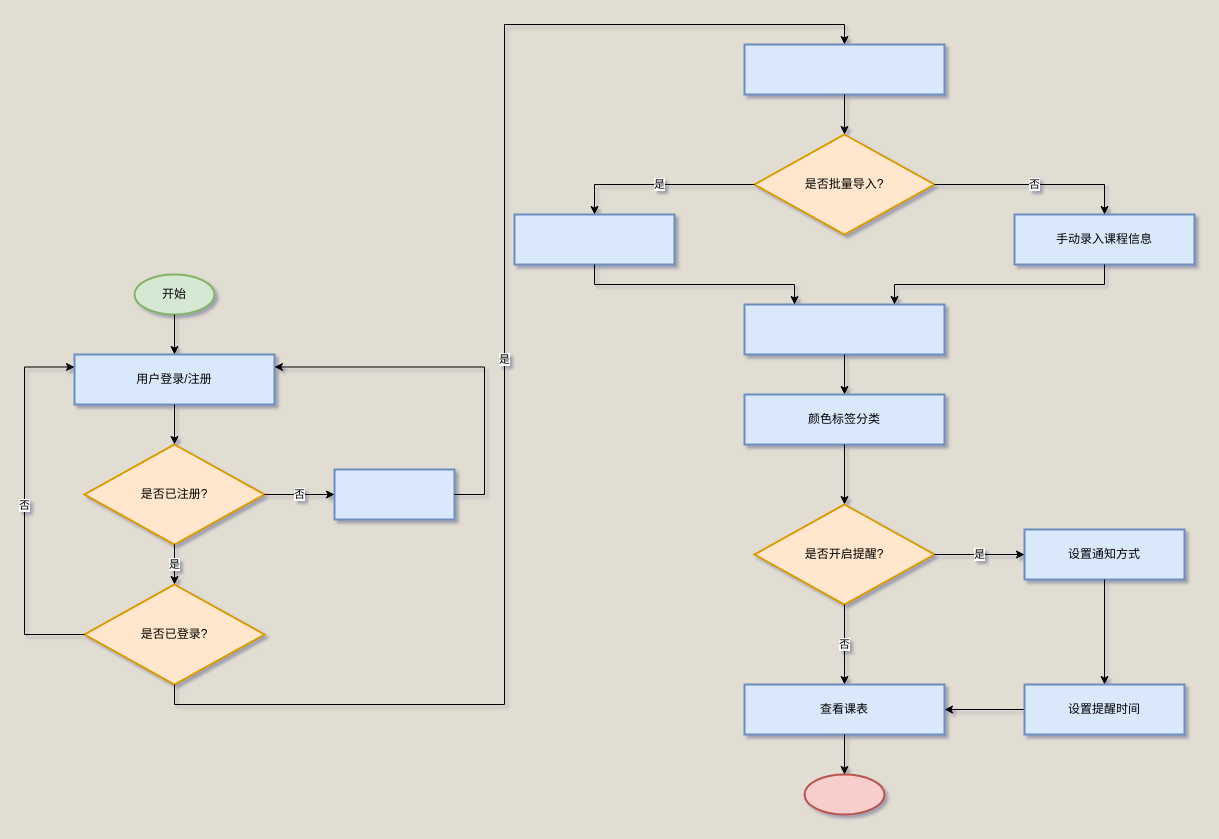
This 1219x839 diagram has some shape labels left out. The shapes that lost their labels are listed below. From the top down, each one's box as (x1, y1, x2, y2) in pixels, then its label:
(743, 43, 945, 95): 课程信息录入
(513, 213, 675, 265): Excel批量导入
(743, 303, 945, 355): 课表生成
(333, 468, 455, 520): 注册
(803, 773, 885, 815): 结束
